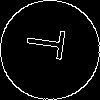T: (25, 25, 75, 62)
